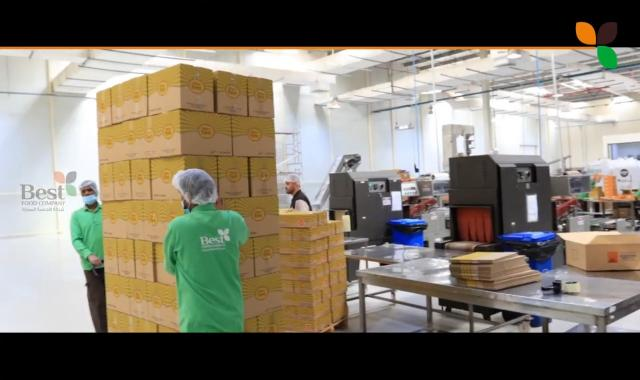hairnet: (174, 167, 217, 205), (79, 178, 97, 192), (284, 173, 300, 186)
